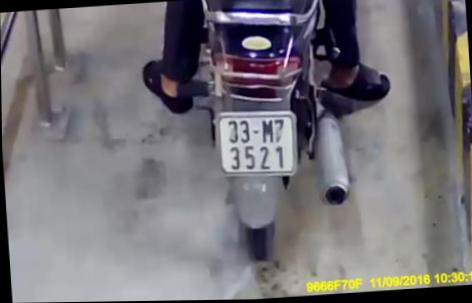LP: (213, 107, 298, 182)
